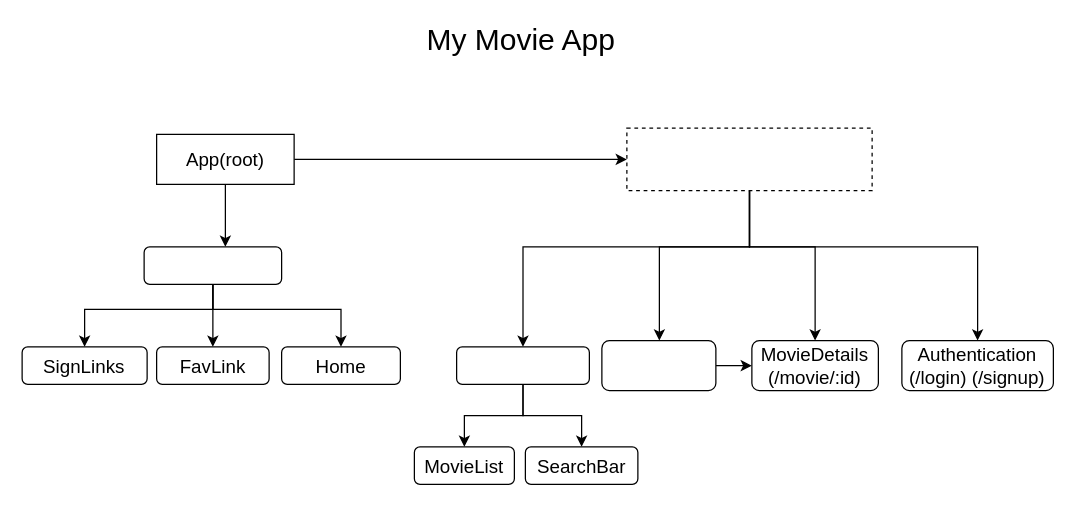
The diagram is 1075 pixels wide and 506 high, and some of its shapes have lost their labels. The centre of each missing label's shape, as x and y in pixels:
"Favorites (/favorites)" goes at [658,365].
"Navbar" goes at [212,265].
"Routes" goes at [749,159].
"Search (/)" goes at [522,365].
